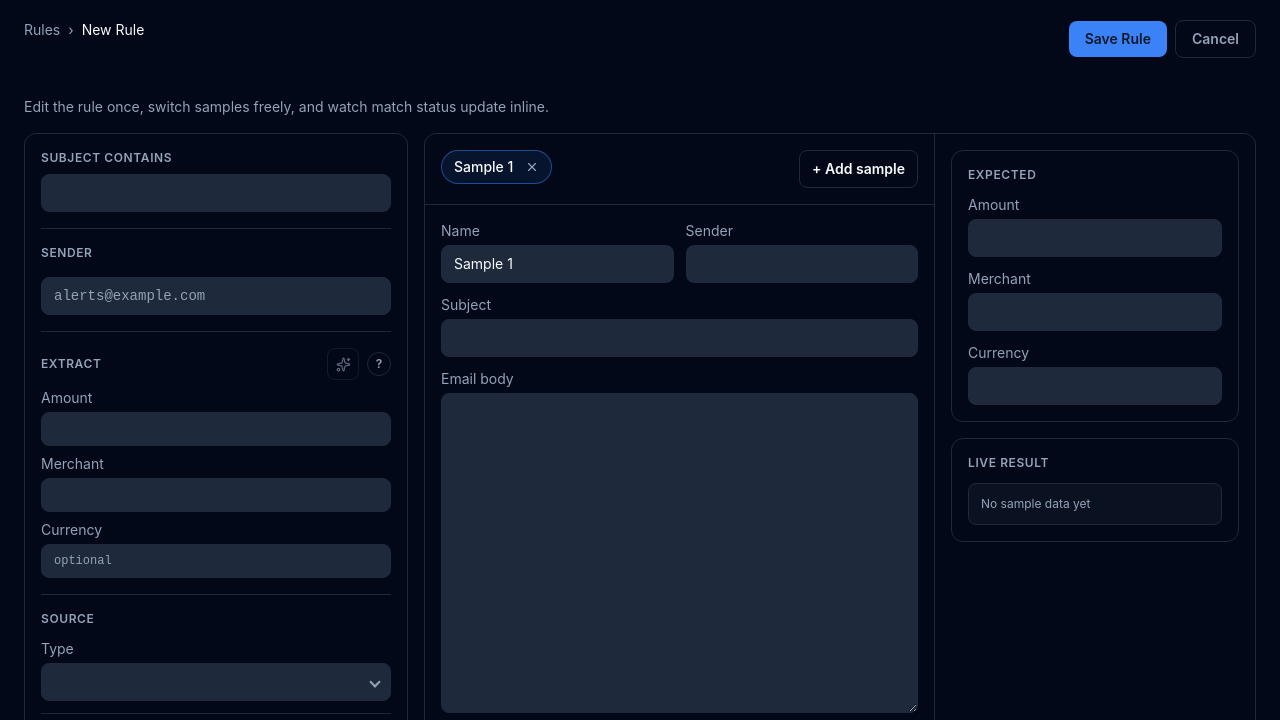
Test: RuleForm diagnostics › moves sample guidance hints to Expected before Extract
This screenshot has width=1280, height=720.
Type "alerts@example.com" into the field labelled "Sender".
click(802, 264); type("alerts@example.com")  # box [686,245,918,283]
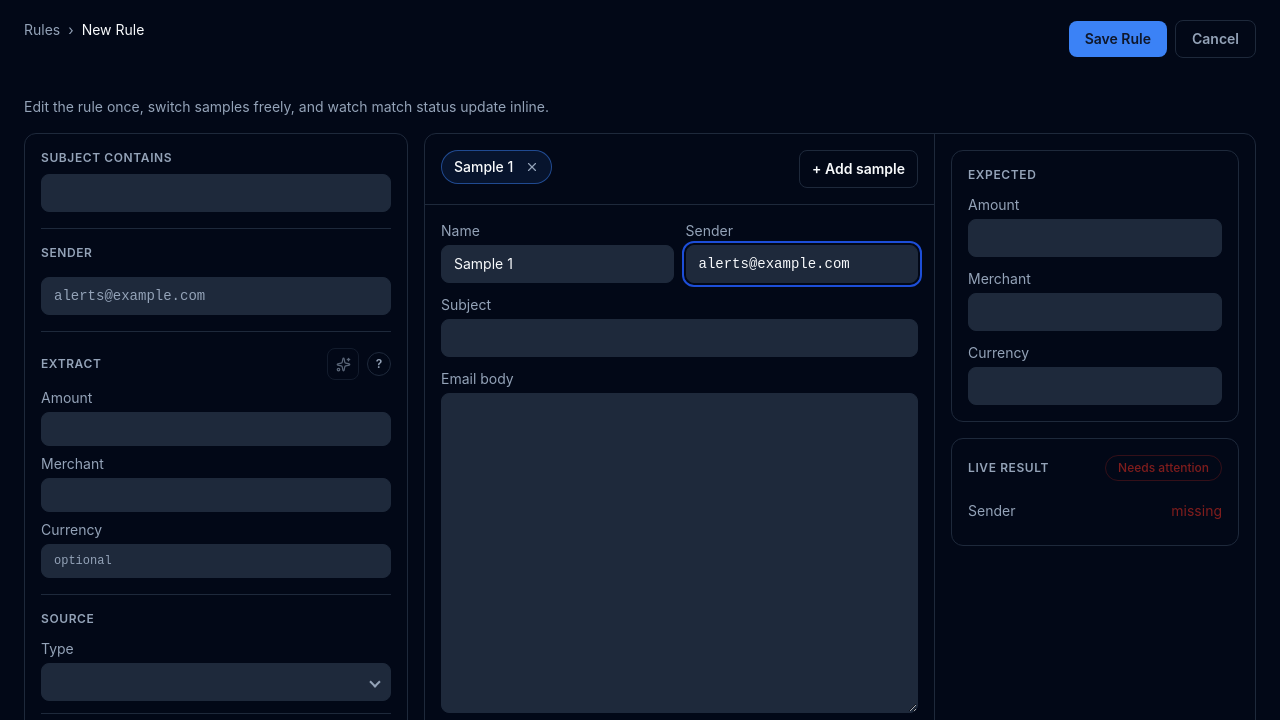
Type "Amount: 999 paid at SWIGGY" into the text box labelled "Email body".
click(680, 553); type("Amount: 999 paid at SWIGGY")  # box [441,393,918,713]
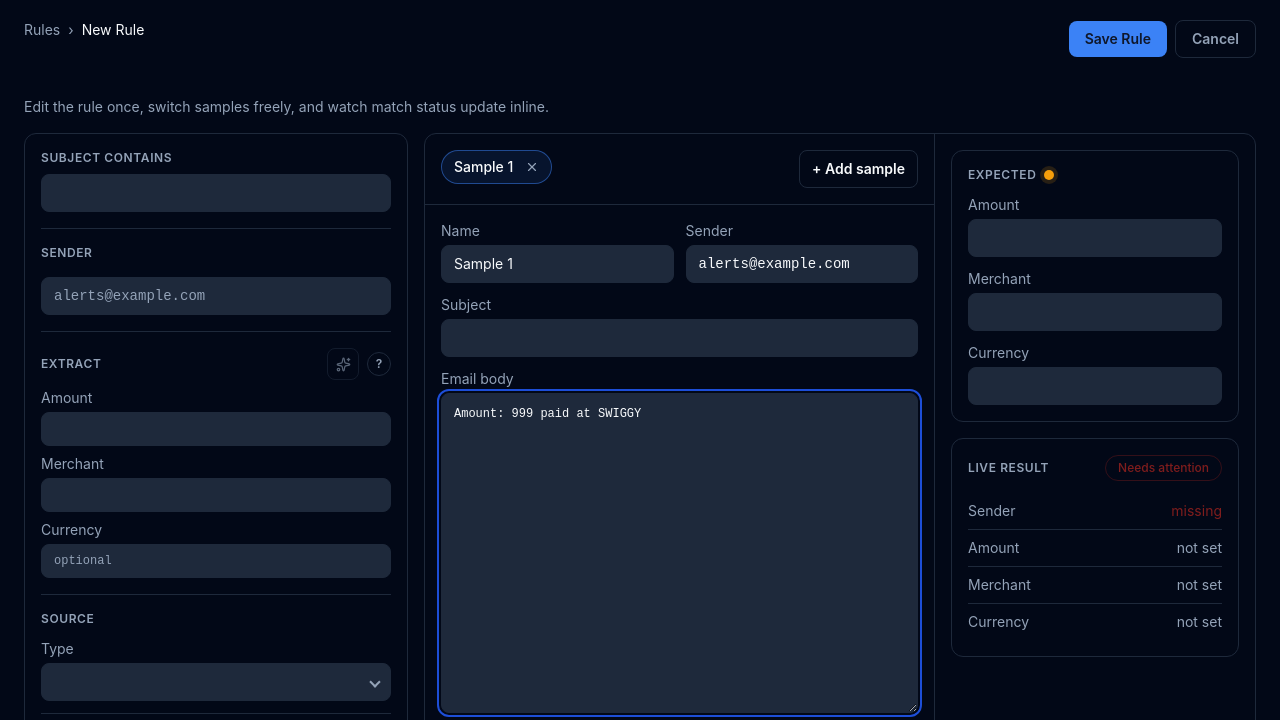
Check: the button named "Expected values needed" is shown, box [1044,170,1054,180]
Type "999" into the field named "Expected amount".
click(1095, 238); type("999")  # box [968,219,1222,257]
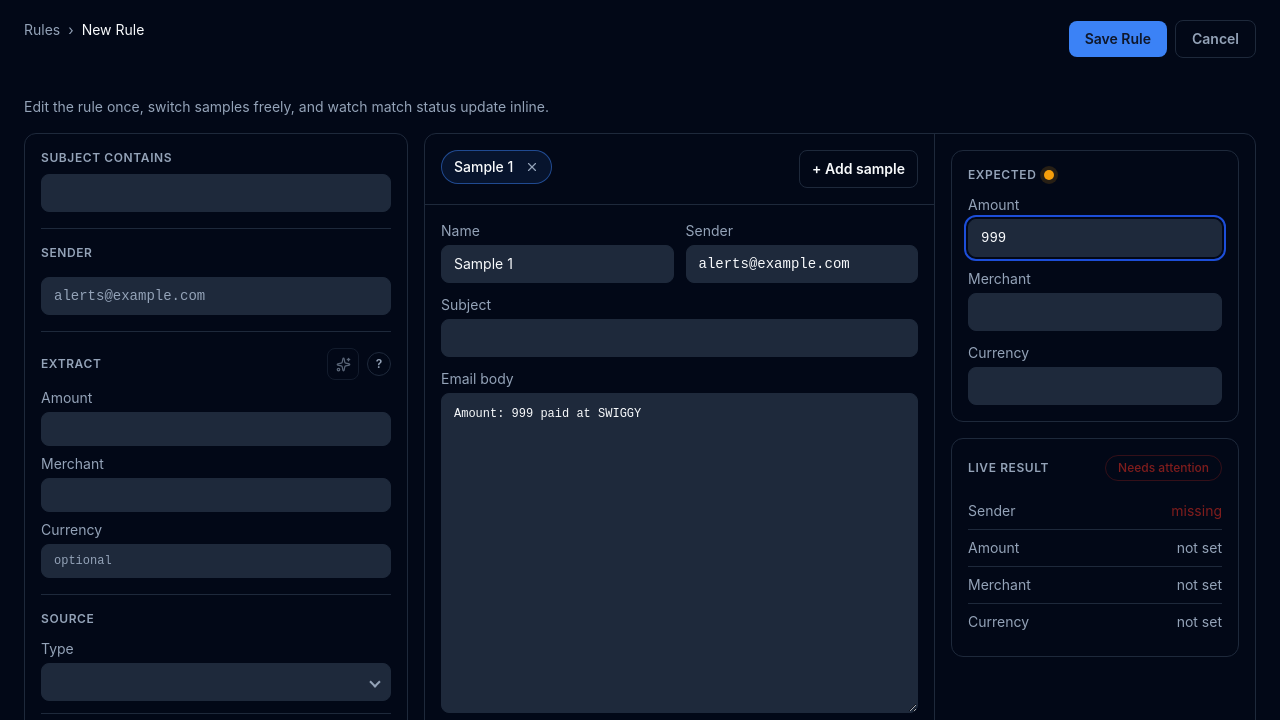
Type "SWIGGY" into the field named "Expected merchant".
click(1095, 312); type("SWIGGY")  # box [968,293,1222,331]
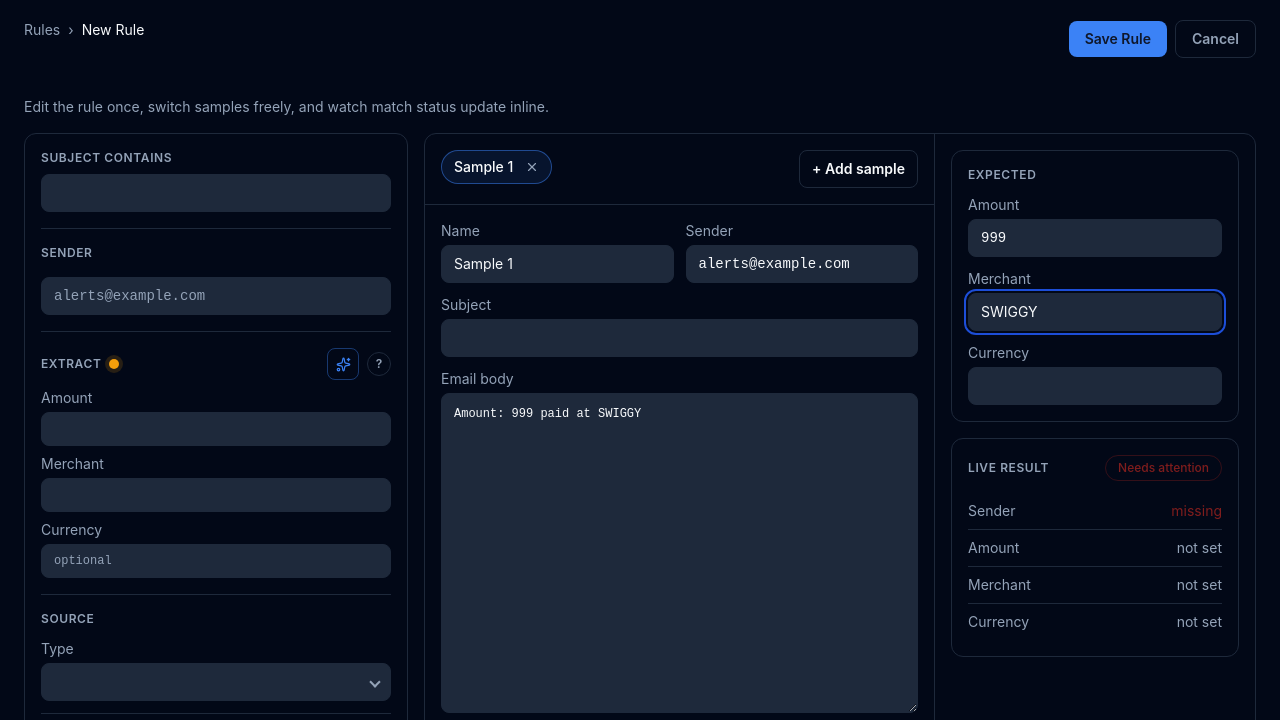
Check: the button named "Extract regex needed" is shown, box [109,359,119,369]
